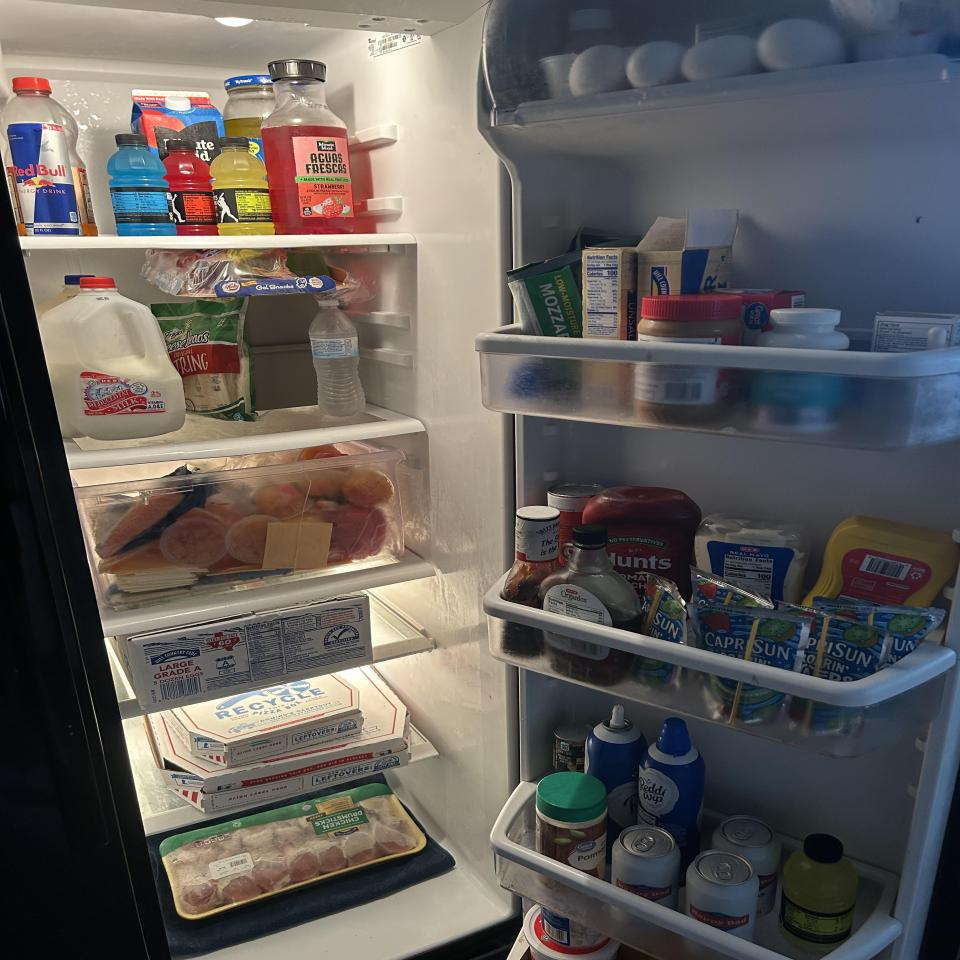Carne pollo: (157, 784, 428, 920)
Huevos: (561, 17, 846, 96)
Leche: (39, 277, 187, 440)
Mantequilla: (634, 208, 739, 342)
Manzana: (341, 469, 393, 508)
